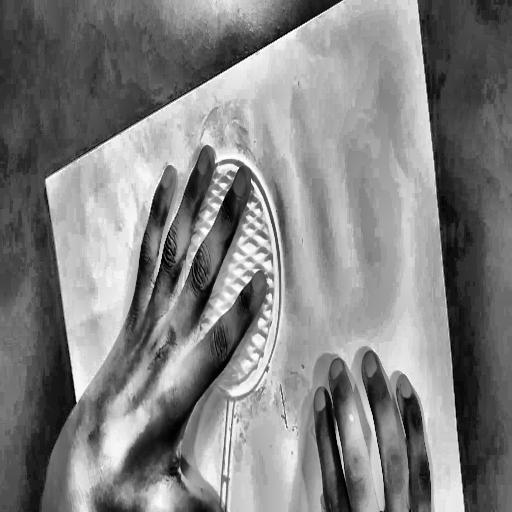badminton: (138, 80, 388, 512)
top_left: (42, 174, 49, 189)
